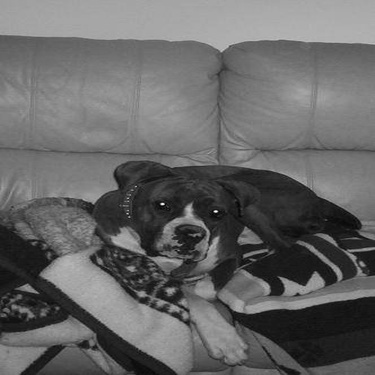dog: (67, 127, 367, 369)
